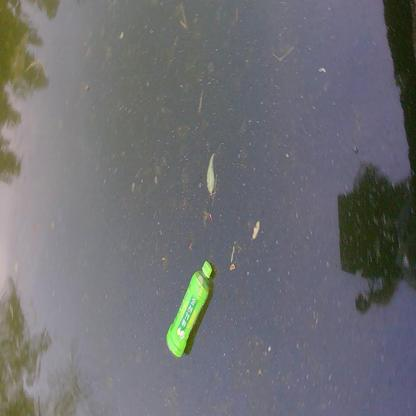plastic bottle: (165, 261, 213, 358)
